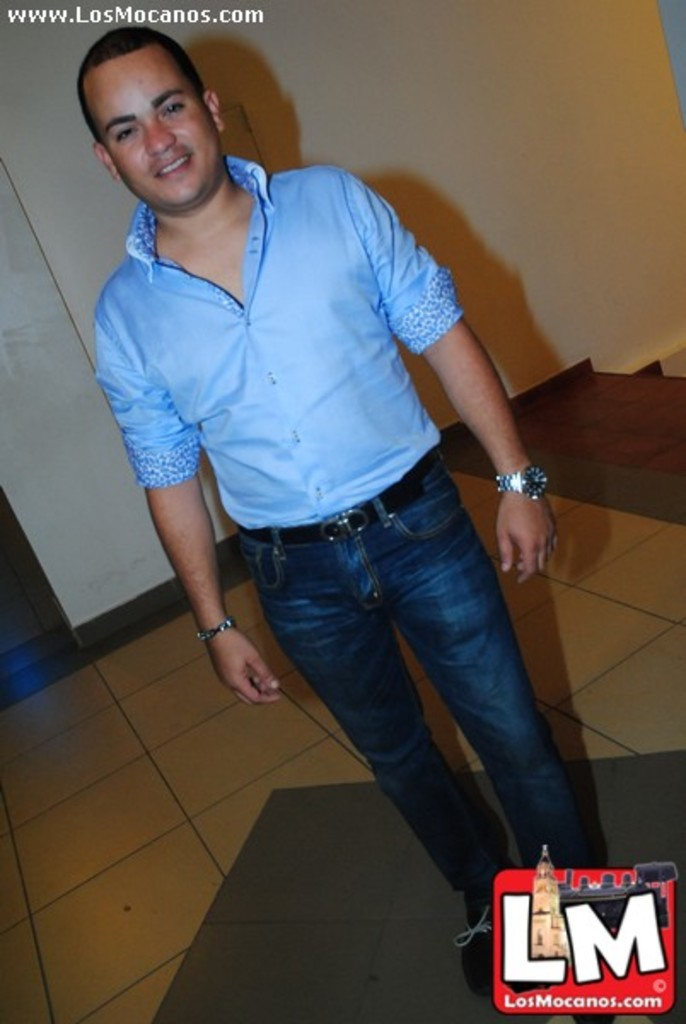Footwear: (457, 899, 512, 1007)
